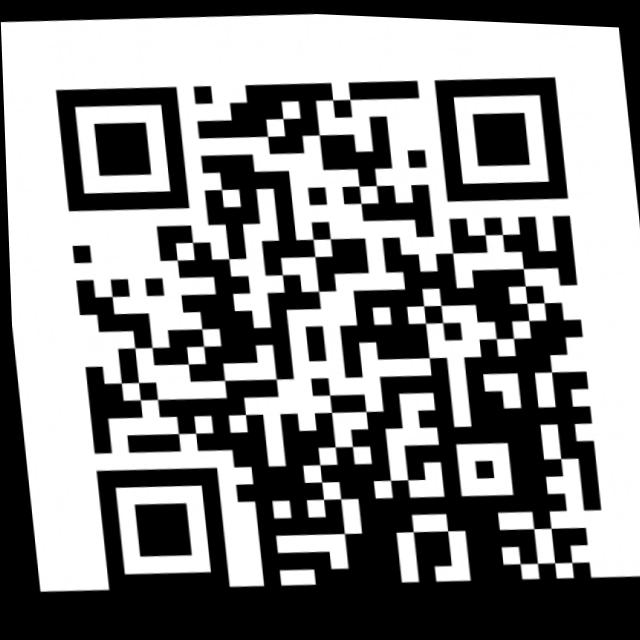QR_CODE: (22, 24, 627, 624)
